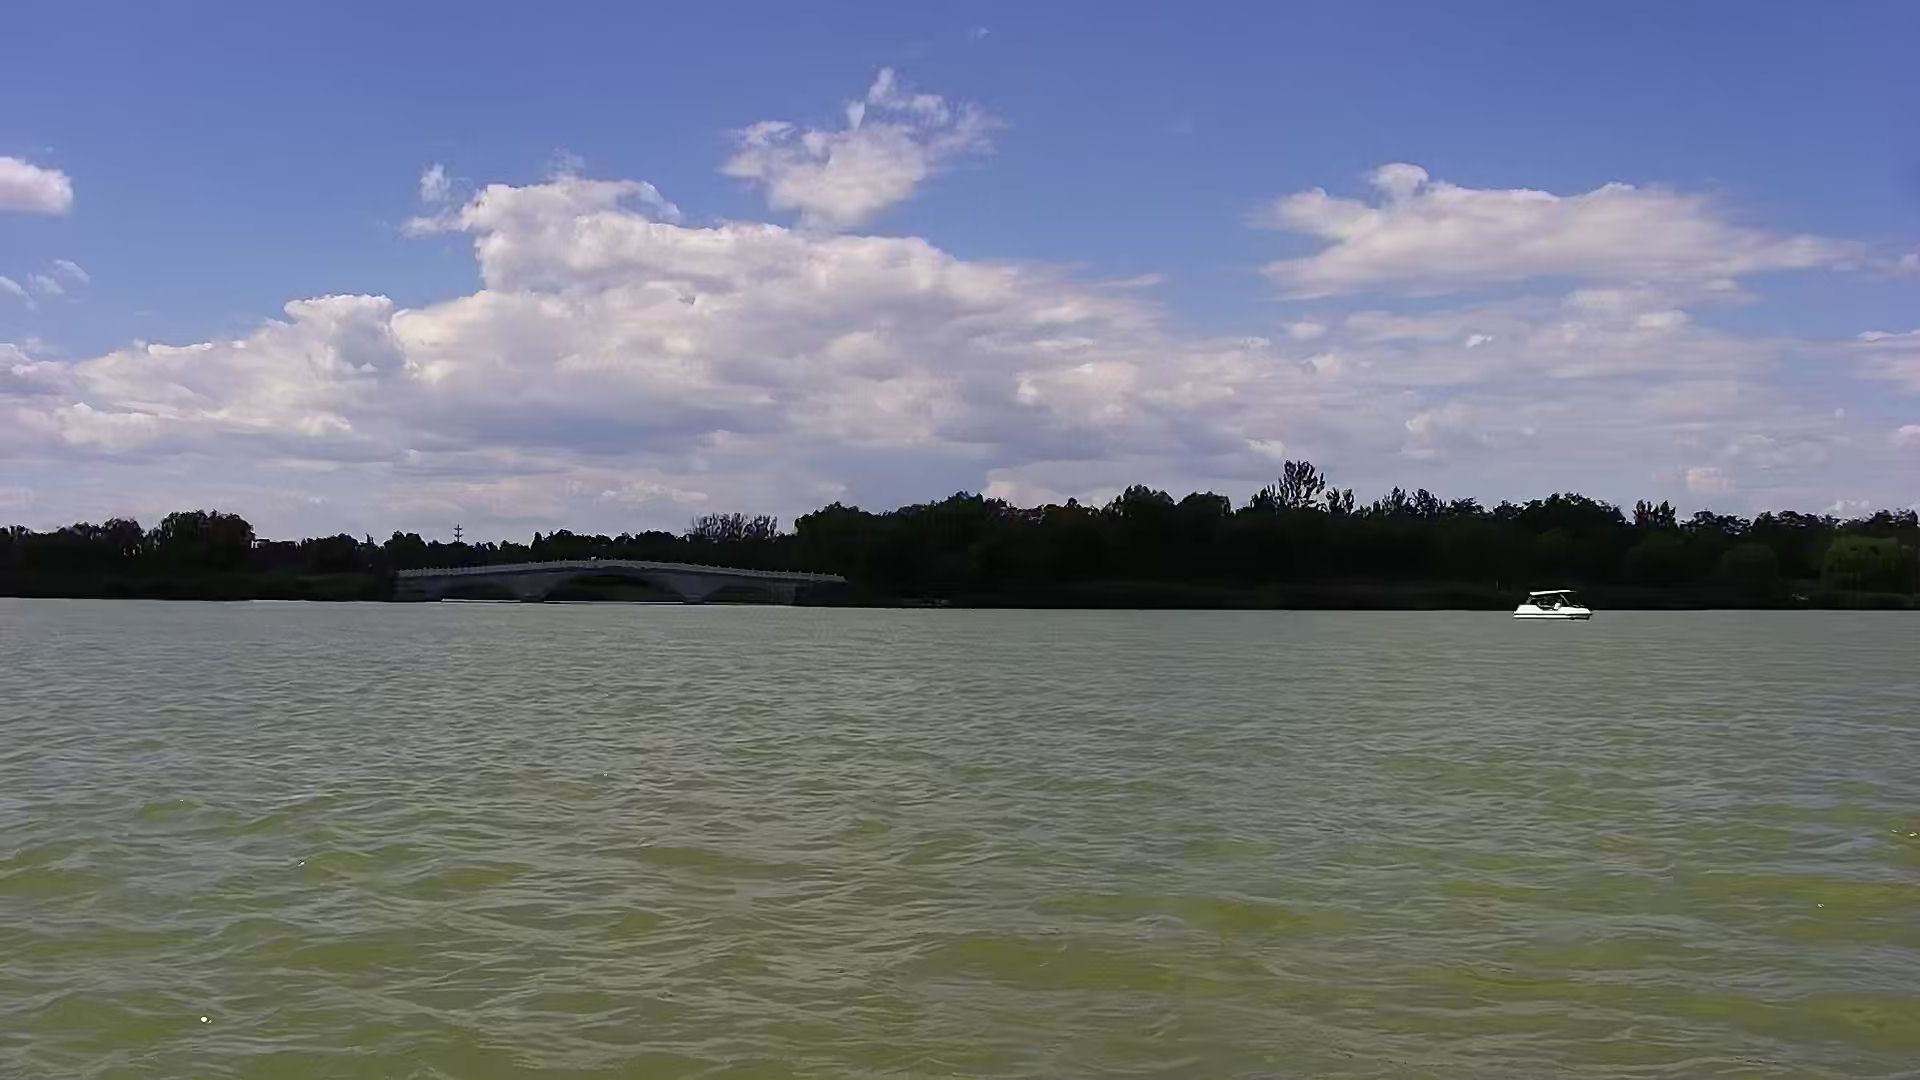boat: (1513, 583, 1597, 622)
bridge: (390, 549, 855, 604)
